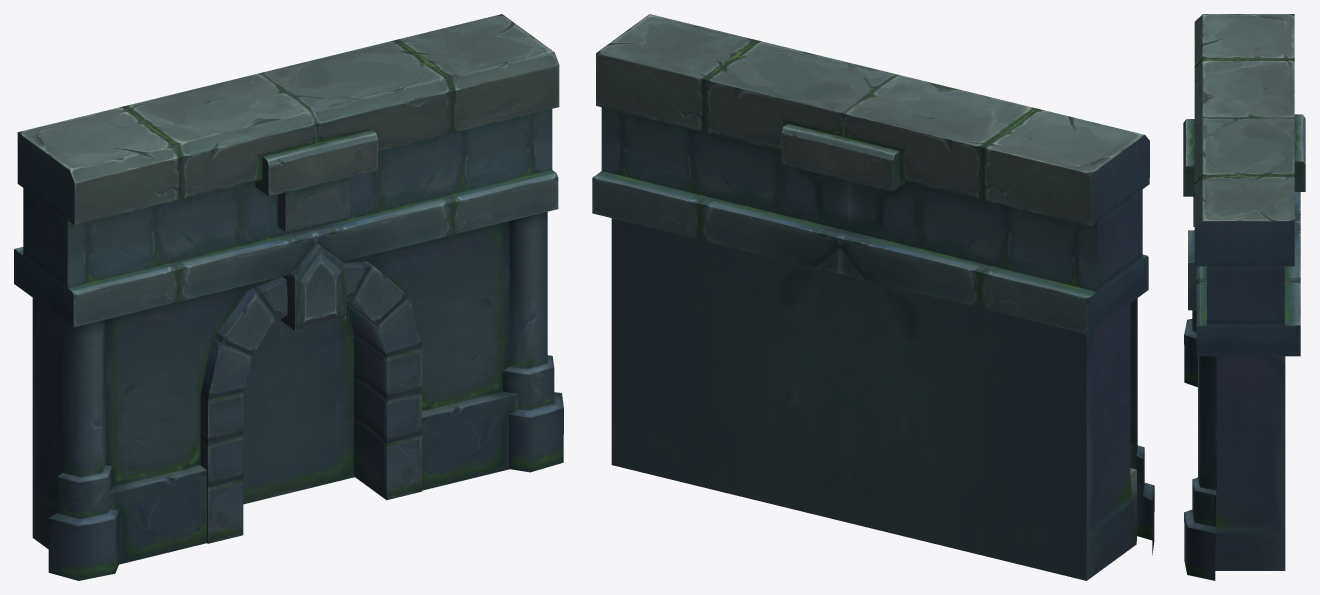
The model's file is zhucheng_langan02.FBX.
3 renders of one model, left to right at view 1: azimuth 30°, elevation 25°; view 2: azimuth 150°, elevation 25°; view 3: azimuth 270°, elevation 25°, orthographic. The views are drawn at different scales.
Parts seen in each view (by area): view 1: zhucheng_langan02; view 2: zhucheng_langan02; view 3: zhucheng_langan02.
Part boxes in pixels (<box>): zhucheng_langan02: <box>14,14,563,580</box>; zhucheng_langan02: <box>592,14,1154,580</box>; zhucheng_langan02: <box>1183,14,1305,580</box>.
Bounding box in the file's own units: 657 × 495 × 155.
